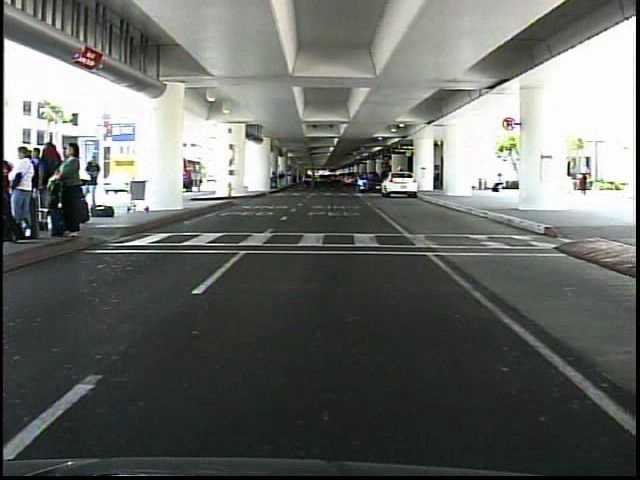person: (572, 162, 595, 202), (489, 167, 506, 199)
